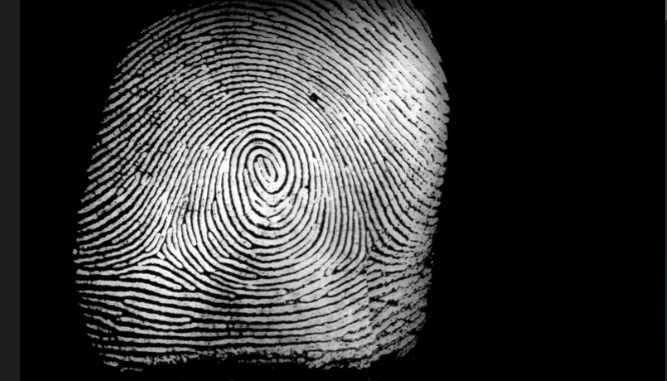deltas: (132, 231, 186, 281), (341, 228, 390, 278)
nucleo: (241, 136, 286, 190)
